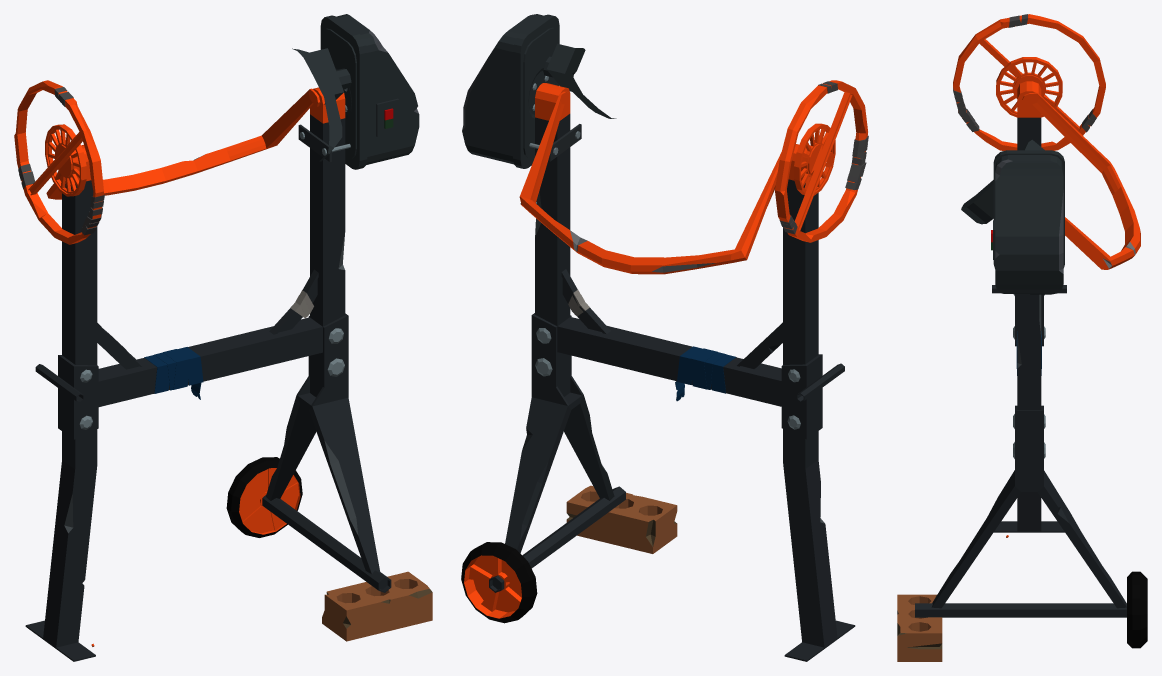
Rendered from SM_CONCRETE_MIXER.gltf.
The picture shows the model from 3 angles, left to right: view 1: azimuth 30°, elevation 25°; view 2: azimuth 150°, elevation 25°; view 3: azimuth 270°, elevation 25°; orthographic projection. The views are drawn at different scales.
Visible parts, largest first — view 1: SM_CONCRETE_MIXER, WHEEL_FOR_CONCRETE_MIXER; view 2: SM_CONCRETE_MIXER, WHEEL_FOR_CONCRETE_MIXER; view 3: SM_CONCRETE_MIXER, WHEEL_FOR_CONCRETE_MIXER.
Boxes of the visible parts, x1=… form: SM_CONCRETE_MIXER: x1=25, y1=14, x2=432, y2=661; WHEEL_FOR_CONCRETE_MIXER: x1=14, y1=80, x2=320, y2=244; SM_CONCRETE_MIXER: x1=461, y1=14, x2=855, y2=661; WHEEL_FOR_CONCRETE_MIXER: x1=519, y1=80, x2=868, y2=274; SM_CONCRETE_MIXER: x1=897, y1=81, x2=1147, y2=661; WHEEL_FOR_CONCRETE_MIXER: x1=953, y1=14, x2=1140, y2=269.
Size of the model in its own units: 0.892 by 1.35 by 0.5986.
